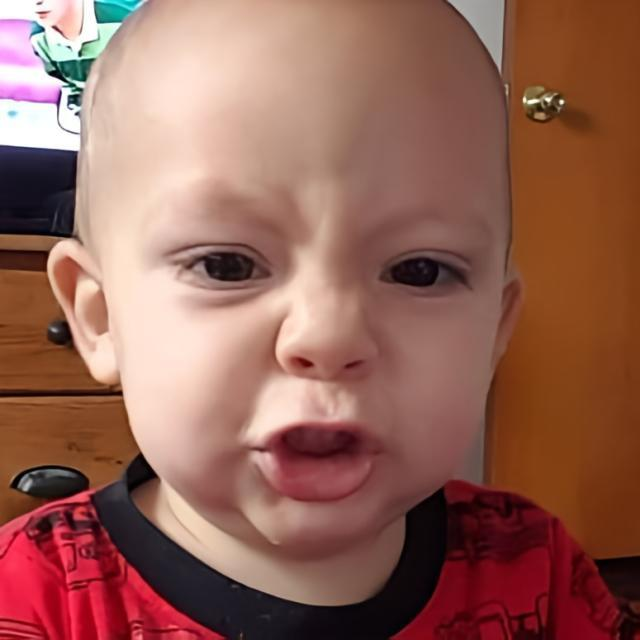anger: (108, 19, 506, 574)
